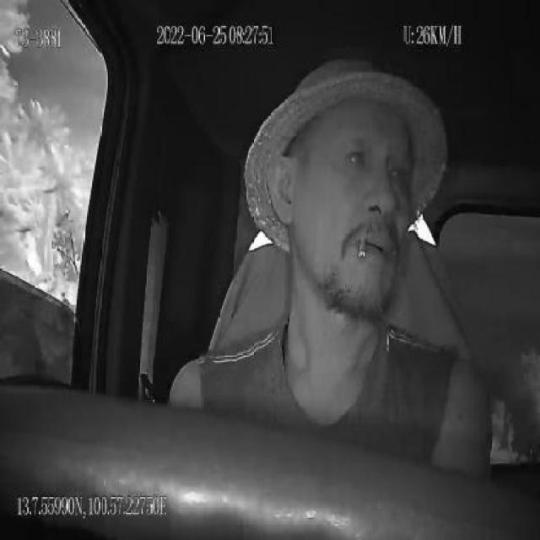smoking: (357, 234, 369, 262)
